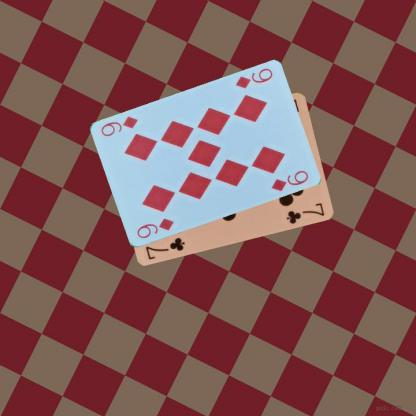7c: (143, 235, 187, 260)
9d: (134, 216, 175, 240), (233, 66, 274, 90)
